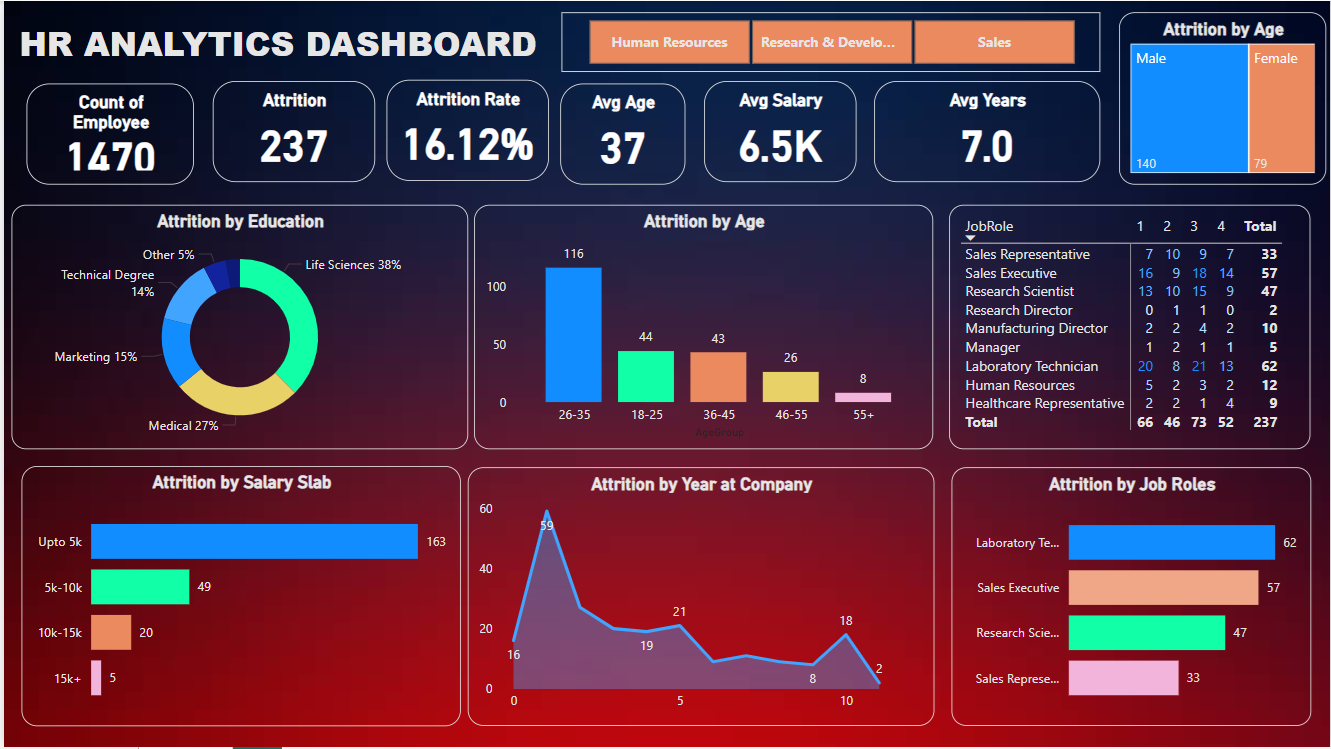

Layout of this report page (visuals, bound fields, positions):
{"tool":"powerbi","page":{"name":"Page 1","canvas":[1280,720],"ordinal":0},"visuals":[{"type":"card","title":"Count of Employee","fields":{"Values":["CountNonNull(HR_Analytics.EmpID)"]},"box":[22.2,79,161.9,97.4],"z":0},{"type":"card","title":"Avg Age","fields":{"Values":["Avg(HR_Analytics.Age)"]},"box":[537.4,79,120.8,97.4],"z":1000},{"type":"card","title":"Attrition","fields":{"Values":["Sum(HR_Analytics.AttritionCount)"]},"box":[202,77.7,156.4,97.4],"z":2000},{"type":"card","title":"Attrition Rate","fields":{"Values":["HR_Analytics.AttritionRate"]},"box":[368.6,76.6,156.4,97.4],"z":3000},{"type":"card","title":"Avg Salary","fields":{"Values":["Avg(HR_Analytics.MonthlyIncome)"]},"box":[675.4,77.7,146.8,97.4],"z":4000},{"type":"card","title":"Avg Years","fields":{"Values":["Avg(HR_Analytics.YearsAtCompany)"]},"box":[839.8,76.8,218.2,97.4],"z":5000},{"type":"donutChart","title":"Attrition by Education","fields":{"Category":["HR_Analytics.EducationField"],"Y":["Sum(HR_Analytics.AttritionCount)"]},"box":[6.9,196.2,440.5,236],"z":6000},{"type":"columnChart","title":"Attrition by Age","fields":{"Y":["Sum(HR_Analytics.AttritionCount)"],"Category":["HR_Analytics.AgeGroup"]},"box":[454.2,196.2,443.2,236],"z":7000},{"type":"pivotTable","fields":{"Rows":["HR_Analytics.JobRole"],"Columns":["HR_Analytics.JobSatisfaction"],"Values":["Sum(HR_Analytics.AttritionCount)"]},"box":[912.5,196.2,348.5,236],"z":8000},{"type":"barChart","title":"Attrition by Salary Slab","fields":{"Category":["HR_Analytics.SalarySlab"],"Y":["Sum(HR_Analytics.AttritionCount)"]},"box":[16.5,448.7,424,251.1],"z":9000},{"type":"barChart","title":"Attrition by Job Roles","fields":{"Category":["HR_Analytics.JobRole"],"Y":["Sum(HR_Analytics.AttritionCount)"]},"box":[913.9,450.1,347.2,249.7],"z":10000},{"type":"areaChart","title":"Attrition by Year at Company","fields":{"Y":["Sum(HR_Analytics.AttritionCount)"],"Category":["HR_Analytics.YearsAtCompany"]},"box":[447.3,450.1,450.1,249.7],"z":11000},{"type":"treemap","title":"Attrition by Age","fields":{"Group":["HR_Analytics.Gender"],"Values":["Sum(HR_Analytics.AttritionCount)"]},"box":[1075.8,11,200.3,166],"z":12000},{"type":"slicer","fields":{"Values":["HR_Analytics.Department"]},"box":[537.9,11,520.1,57.6],"z":13000},{"type":"textbox","box":[9.6,13.7,518.7,57.6],"z":14000}]}

Visuals, with their boxes in screenshot pixels (x1, y1, x2, y2), scaled from the page's 1280x720 canvas onto the 1331x749 screenshot:
"Count of Employee" card: bbox(23, 82, 191, 184)
"Avg Age" card: bbox(559, 82, 684, 184)
"Attrition" card: bbox(210, 81, 373, 182)
"Attrition Rate" card: bbox(383, 80, 546, 181)
"Avg Salary" card: bbox(702, 81, 855, 182)
"Avg Years" card: bbox(873, 80, 1100, 181)
"Attrition by Education" donutChart: bbox(7, 204, 465, 450)
"Attrition by Age" columnChart: bbox(472, 204, 933, 450)
pivotTable - HR_Analytics.JobRole x HR_Analytics.JobSatisfaction: bbox(949, 204, 1311, 450)
"Attrition by Salary Slab" barChart: bbox(17, 467, 458, 728)
"Attrition by Job Roles" barChart: bbox(950, 468, 1311, 728)
"Attrition by Year at Company" areaChart: bbox(465, 468, 933, 728)
"Attrition by Age" treemap: bbox(1119, 11, 1327, 184)
slicer - HR_Analytics.Department: bbox(559, 11, 1100, 71)
textbox: bbox(10, 14, 549, 74)
